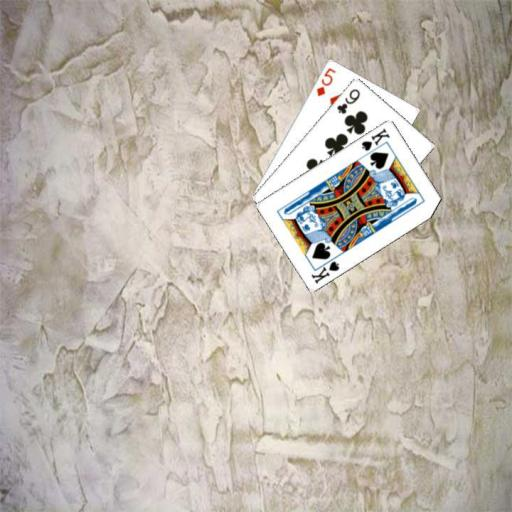5D: (314, 64, 337, 97)
9C: (333, 86, 362, 116)
KS: (308, 253, 341, 285), (359, 125, 391, 152)
